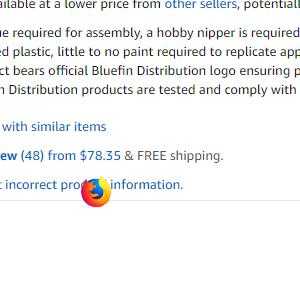firefox: (81, 176, 111, 207)
